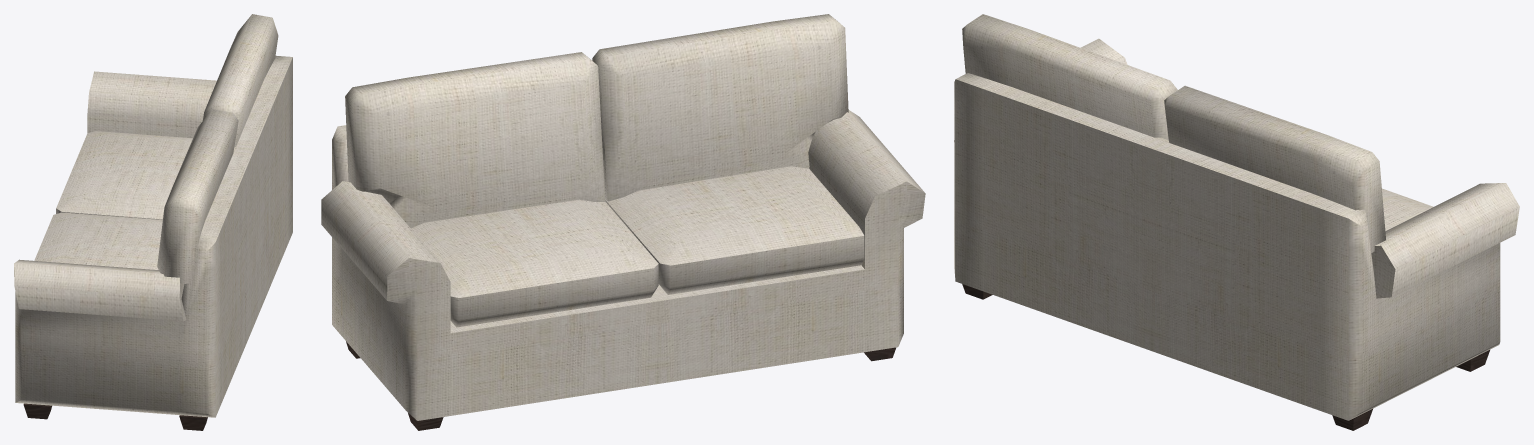
3 renders of one model, left to right at view 1: azimuth 30°, elevation 25°; view 2: azimuth 150°, elevation 25°; view 3: azimuth 270°, elevation 25°, orthographic. The views are drawn at different scales.
Visible parts, largest first — view 1: Armchair001_Fabric_10_0, Armchair001_Wood_10001_0; view 2: Armchair001_Fabric_10_0, Armchair001_Wood_10001_0; view 3: Armchair001_Fabric_10_0, Armchair001_Wood_10001_0.
Boxes of the visible parts, x1,y1,x2,y2 form: Armchair001_Fabric_10_0: (14,14,292,417); Armchair001_Wood_10001_0: (23,403,207,430); Armchair001_Fabric_10_0: (321,14,925,420); Armchair001_Wood_10001_0: (346,341,896,430); Armchair001_Fabric_10_0: (954,14,1519,420); Armchair001_Wood_10001_0: (962,284,1489,430).
Size of the model in its own units: 1.67 by 0.9465 by 1.8.
2 materials, 2 textured.
